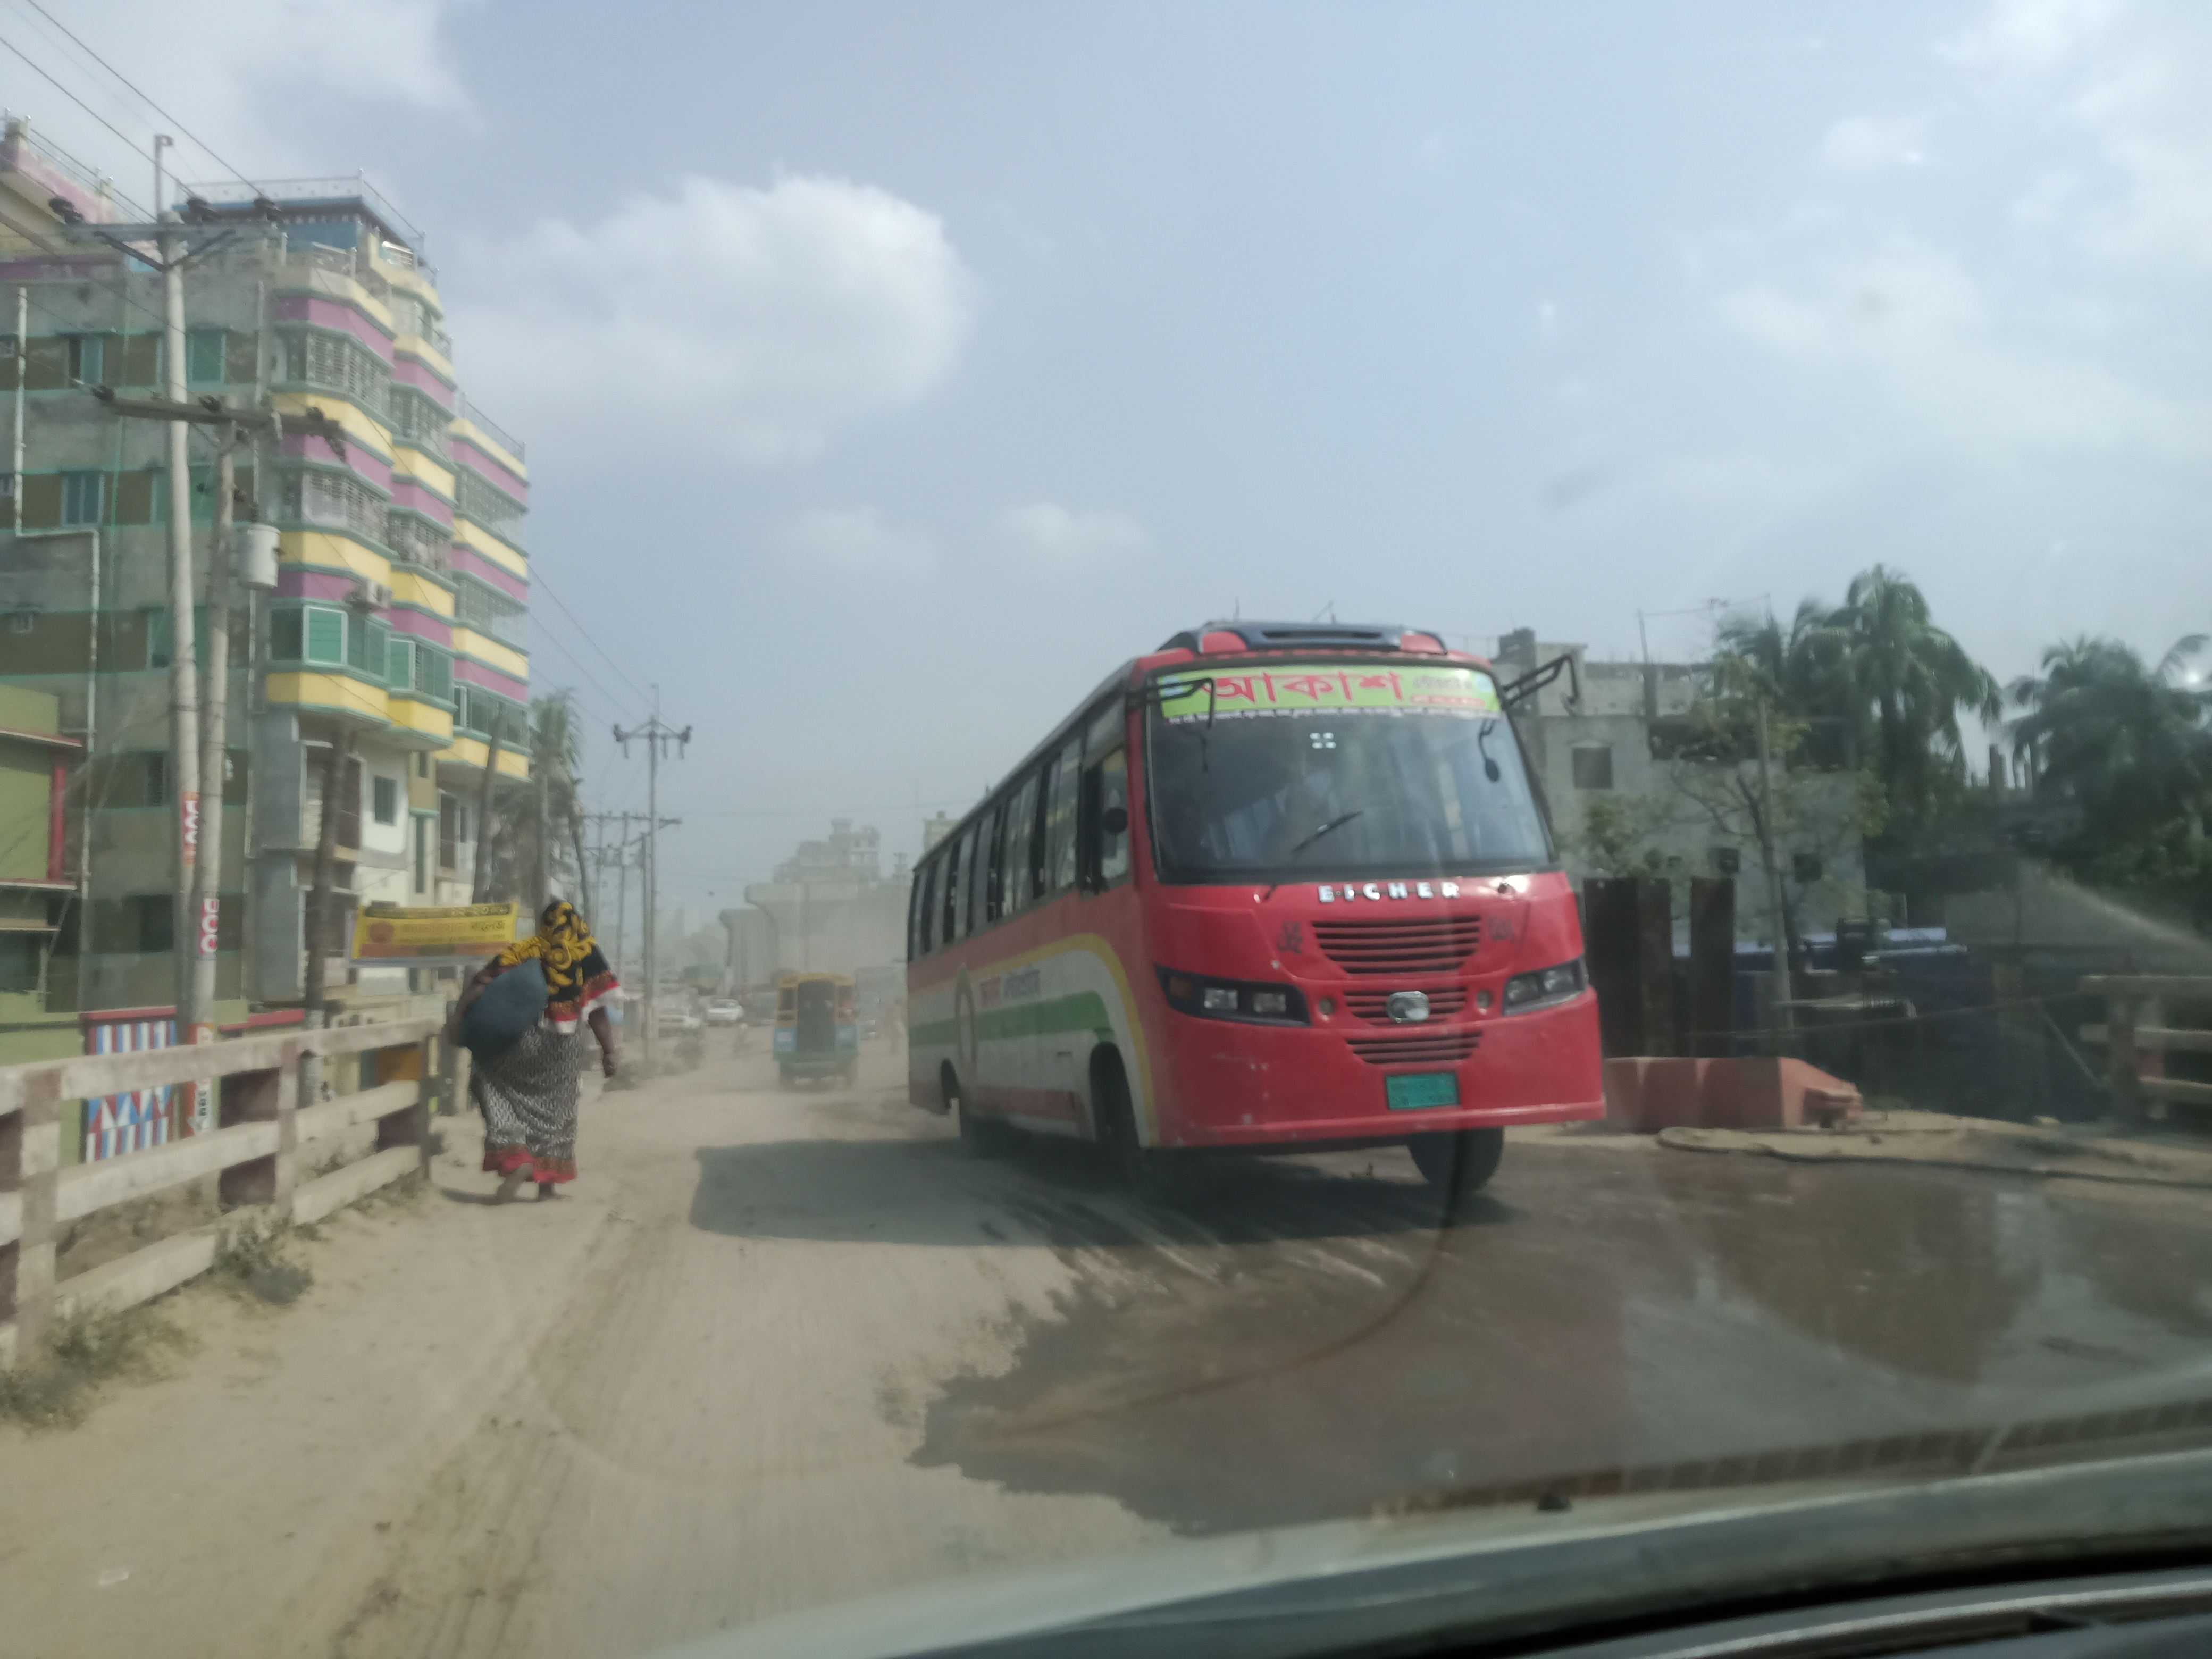bus: (887, 617, 1601, 1190)
leguna: (763, 964, 867, 1100)
